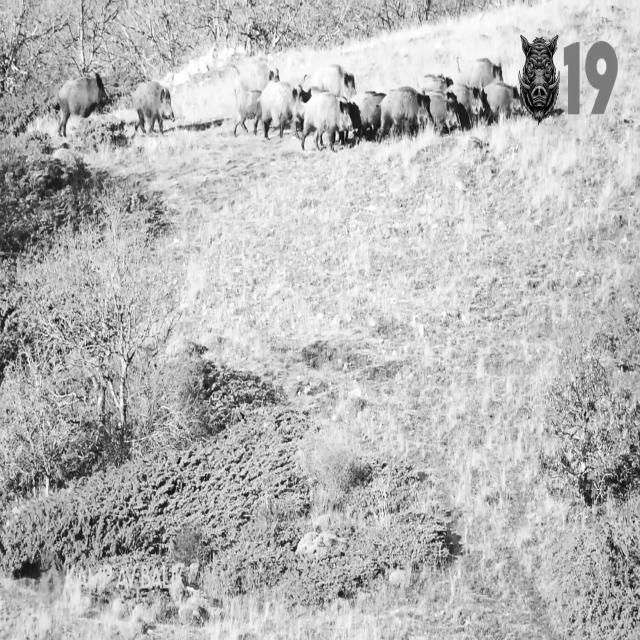boar: (233, 34, 560, 149), (57, 72, 109, 135), (133, 81, 174, 136)
